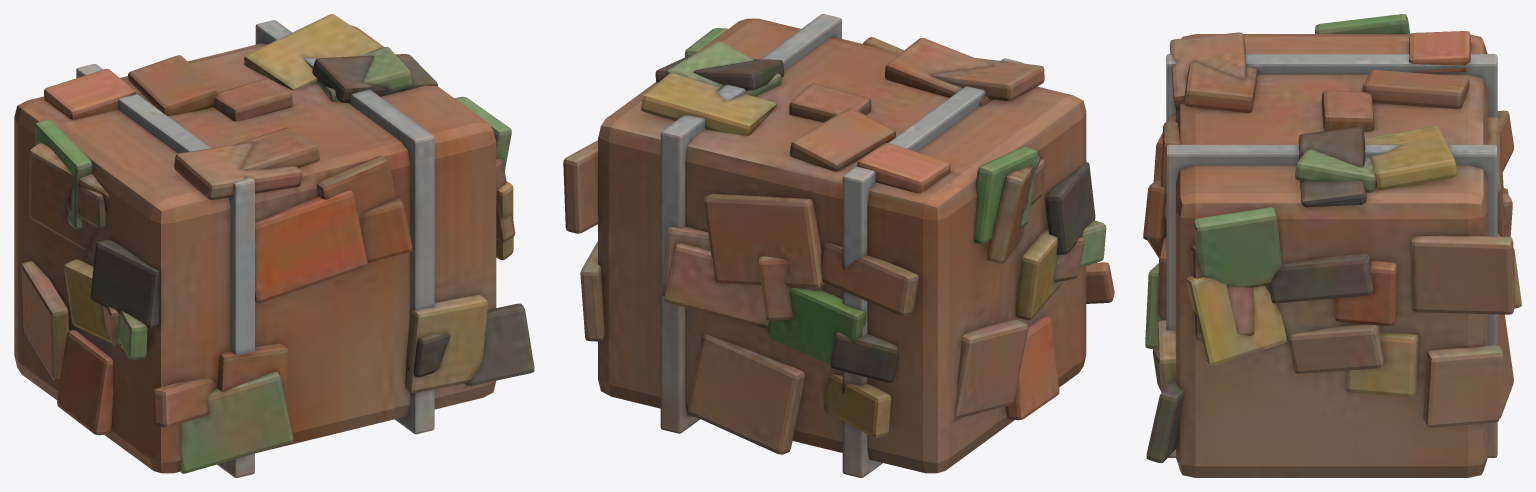
File: bale_copper.glb
3 views of the same model, side by side, from view 1: azimuth 30°, elevation 25°; view 2: azimuth 150°, elevation 25°; view 3: azimuth 270°, elevation 25° (orthographic). The views are drawn at different scales.
Visible parts, largest first — view 1: BaleCopper_Mesh; view 2: BaleCopper_Mesh; view 3: BaleCopper_Mesh.
Part boxes in pixels (left/top/right/bottom): BaleCopper_Mesh: left=14, top=14, right=534, bottom=477; BaleCopper_Mesh: left=563, top=14, right=1114, bottom=477; BaleCopper_Mesh: left=1143, top=14, right=1521, bottom=477.
Size of the model in its own units: 0.4913 by 0.3618 by 0.3885.
Materials: 1 (1 with a texture image).
